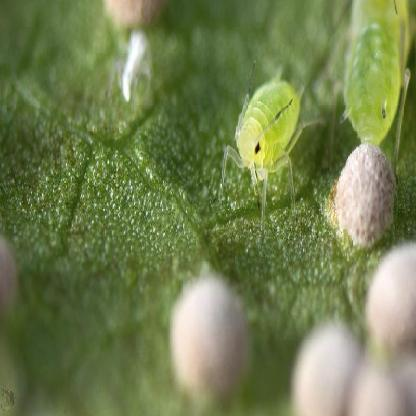aphid: (338, 0, 416, 165), (220, 70, 310, 210)
